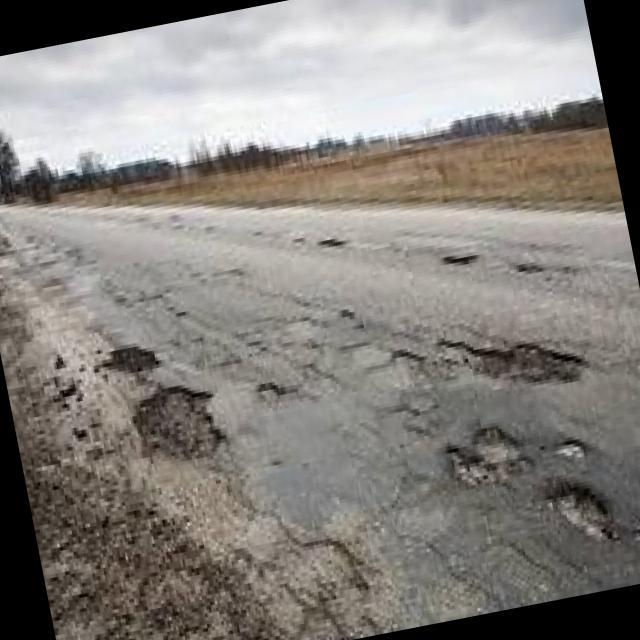Pothole: (437, 318, 581, 406), (124, 379, 230, 474), (439, 419, 528, 493), (544, 474, 616, 552), (90, 332, 164, 386), (251, 372, 289, 410), (388, 339, 428, 375), (508, 250, 546, 282), (438, 245, 479, 273)
